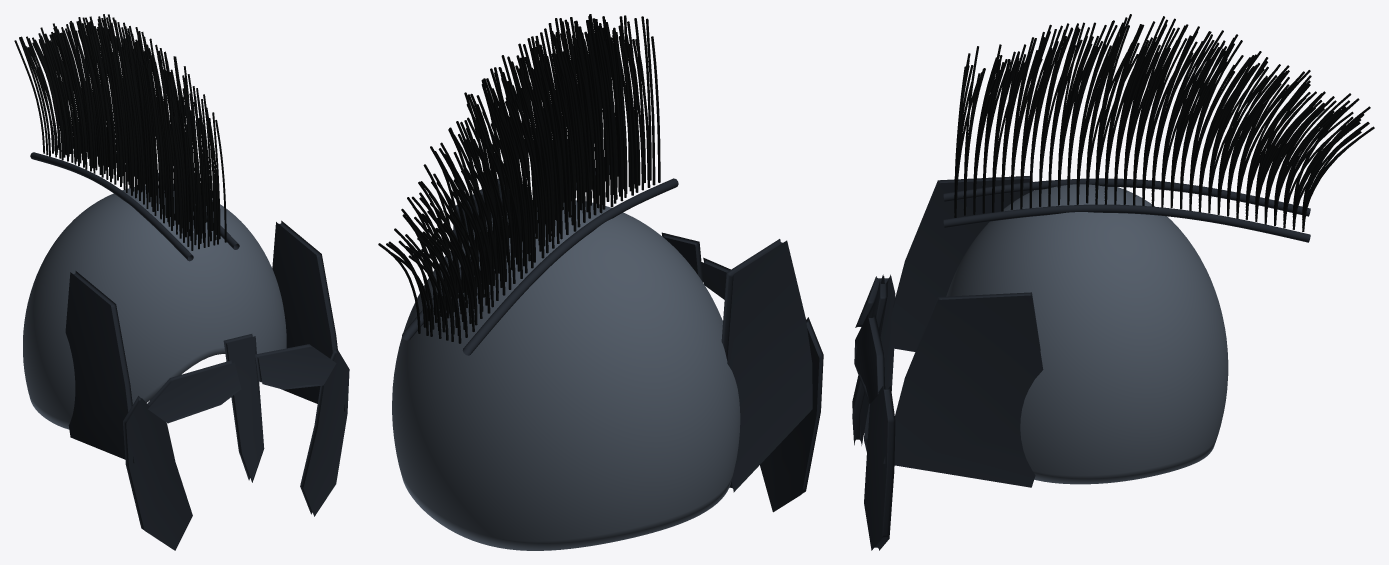
File: leonidas-aqueo-dark-modular-v8.glb
3 views of the same model, side by side, from view 1: azimuth 30°, elevation 25°; view 2: azimuth 150°, elevation 25°; view 3: azimuth 270°, elevation 25° (orthographic). The views are drawn at different scales.
Parts seen in each view (by area): view 1: Aqueo_FitReference, AqueoDarkV8_DenseSagittalHorsehair, AqueoDarkV8_LeftTemple, AqueoDarkV8_LeftCheekGuard, AqueoDarkV8_RightTemple, AqueoDarkV8_RightCheekGuard, AqueoDarkV8_ForgedNasal, AqueoDarkV8_LeftBrowWing, AqueoDarkV8_RightBrowWing, AqueoDarkV8_CrestRail_-0.019; view 2: Aqueo_FitReference, AqueoDarkV8_DenseSagittalHorsehair, AqueoDarkV8_LeftTemple, AqueoDarkV8_LeftCheekGuard, AqueoDarkV8_CrestRail_-0.019, AqueoDarkV8_ForgedNasal, AqueoDarkV8_LeftBrowWing; view 3: Aqueo_FitReference, AqueoDarkV8_DenseSagittalHorsehair, AqueoDarkV8_RightTemple, AqueoDarkV8_LeftTemple, AqueoDarkV8_RightCheekGuard, AqueoDarkV8_CrestRail_+0.019, AqueoDarkV8_CrestRail_-0.019, AqueoDarkV8_RightBrowWing, AqueoDarkV8_ForgedNasal, AqueoDarkV8_LeftCheekGuard.
Boxes of the visible parts, box(x1,y1,x2,y2) form: Aqueo_FitReference: box(23, 185, 286, 429); AqueoDarkV8_DenseSagittalHorsehair: box(14, 14, 226, 250); AqueoDarkV8_LeftTemple: box(65, 271, 134, 462); AqueoDarkV8_LeftCheekGuard: box(123, 396, 192, 550); AqueoDarkV8_RightTemple: box(272, 220, 345, 411); AqueoDarkV8_RightCheekGuard: box(300, 348, 349, 516); AqueoDarkV8_ForgedNasal: box(223, 334, 264, 482); AqueoDarkV8_LeftBrowWing: box(147, 360, 241, 423); AqueoDarkV8_RightBrowWing: box(255, 344, 336, 389); AqueoDarkV8_CrestRail_-0.019: box(30, 152, 193, 261); Aqueo_FitReference: box(392, 200, 740, 550); AqueoDarkV8_DenseSagittalHorsehair: box(378, 14, 660, 343); AqueoDarkV8_LeftTemple: box(721, 239, 812, 492); AqueoDarkV8_LeftCheekGuard: box(760, 317, 823, 512); AqueoDarkV8_CrestRail_-0.019: box(462, 178, 678, 355); AqueoDarkV8_ForgedNasal: box(661, 232, 703, 282); AqueoDarkV8_LeftBrowWing: box(701, 257, 730, 299); Aqueo_FitReference: box(946, 184, 1228, 484); AqueoDarkV8_DenseSagittalHorsehair: box(954, 14, 1374, 231); AqueoDarkV8_RightTemple: box(883, 292, 1043, 487); AqueoDarkV8_LeftTemple: box(891, 176, 1033, 351); AqueoDarkV8_RightCheekGuard: box(864, 386, 895, 550); AqueoDarkV8_CrestRail_+0.019: box(943, 204, 1310, 242); AqueoDarkV8_CrestRail_-0.019: box(943, 178, 1310, 216); AqueoDarkV8_RightBrowWing: box(854, 314, 885, 403); AqueoDarkV8_ForgedNasal: box(852, 281, 887, 445); AqueoDarkV8_LeftCheekGuard: box(864, 274, 895, 451).
Size of the model in its own units: 0.1917 by 0.3322 by 0.3217.
